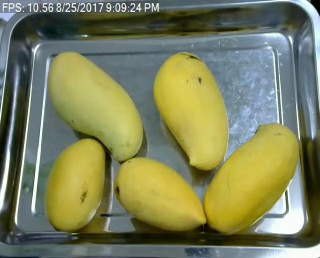Mango: (204, 123, 302, 235), (46, 49, 144, 161), (152, 50, 229, 169), (118, 155, 206, 232), (44, 137, 106, 235)
